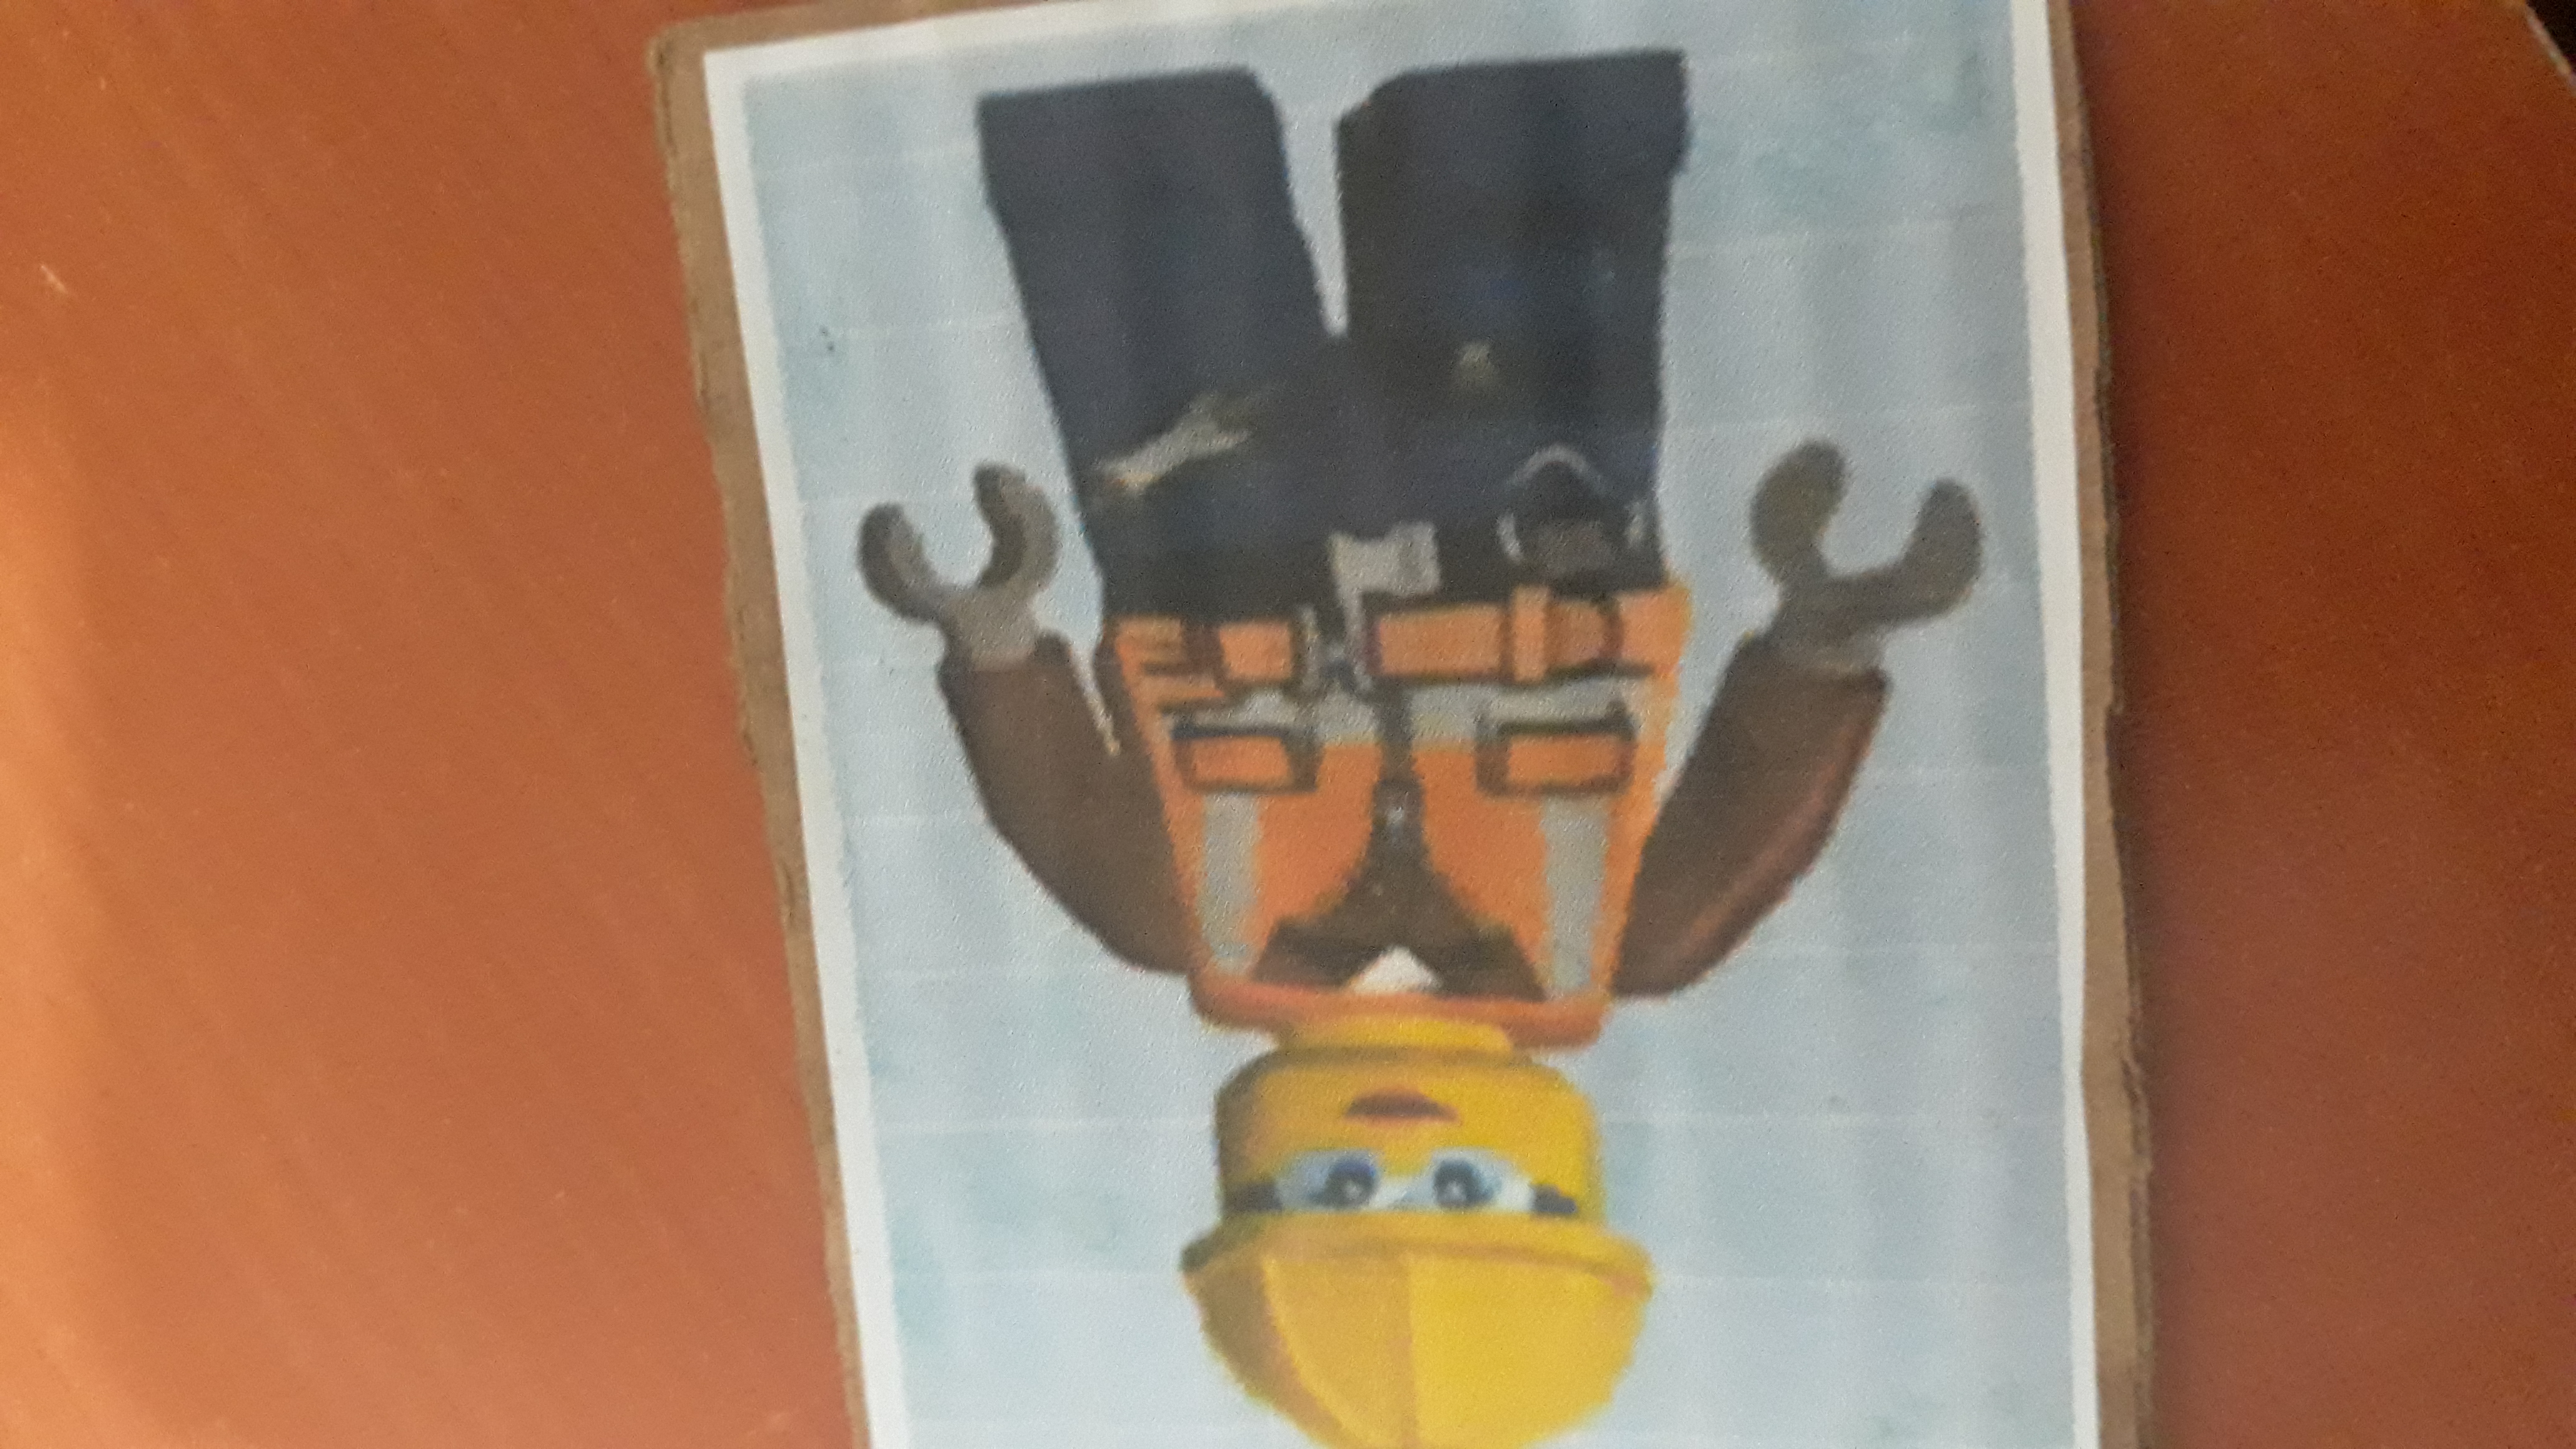pedestrian: (848, 49, 1991, 1436)
